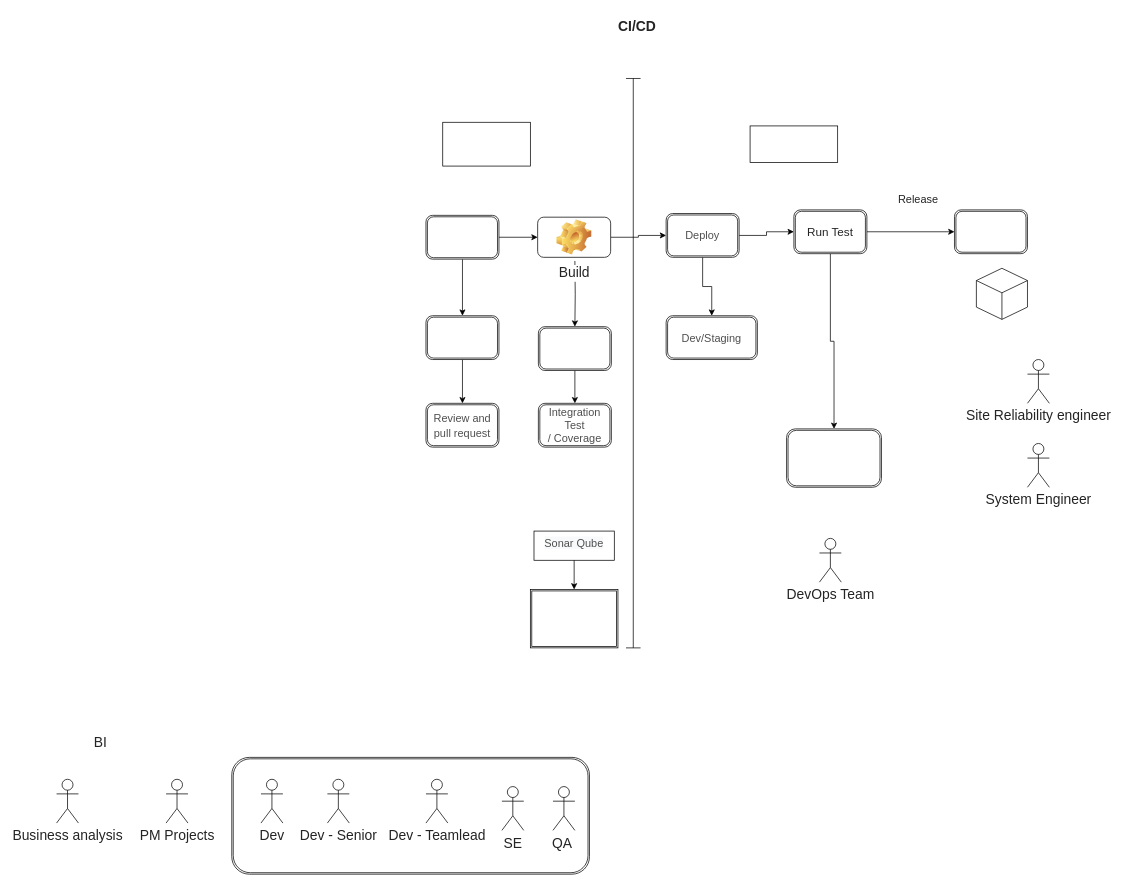
The diagram is 1123 pixels wide and 887 high, and some of its shapes have lost their labels. Each missing label, with the box of its shape:
ALL TEST FOR PRODUCTION: (786, 428, 881, 487)
cod quality cod secuerity techinal debt: (530, 589, 618, 648)
Coding: (425, 215, 499, 259)
Continous Delivery: (749, 125, 838, 162)
Continous Integation: (442, 122, 530, 166)
Deploy to production: (954, 209, 1027, 254)
SourceCode version Control: (425, 315, 499, 360)
Unit Test & Sonar Qube: (538, 326, 611, 370)
